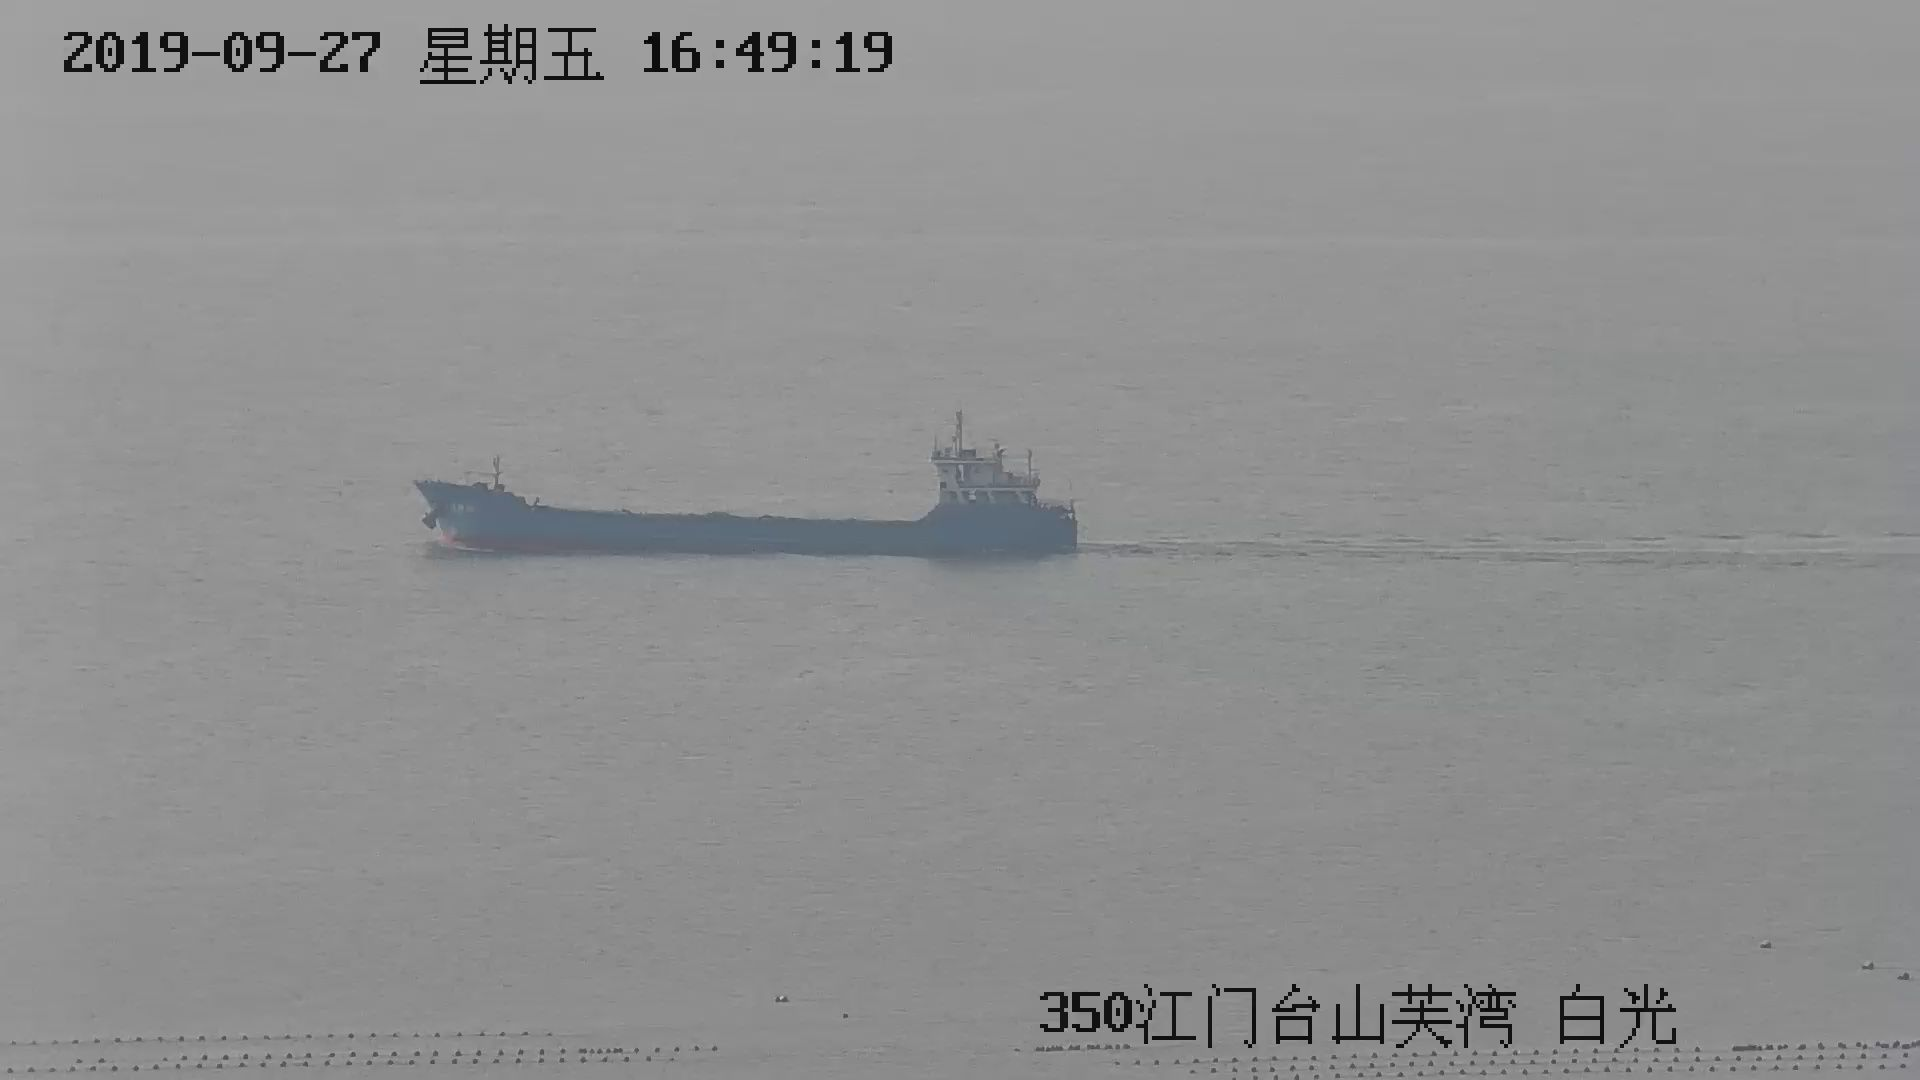ship: (414, 419, 1081, 559)
